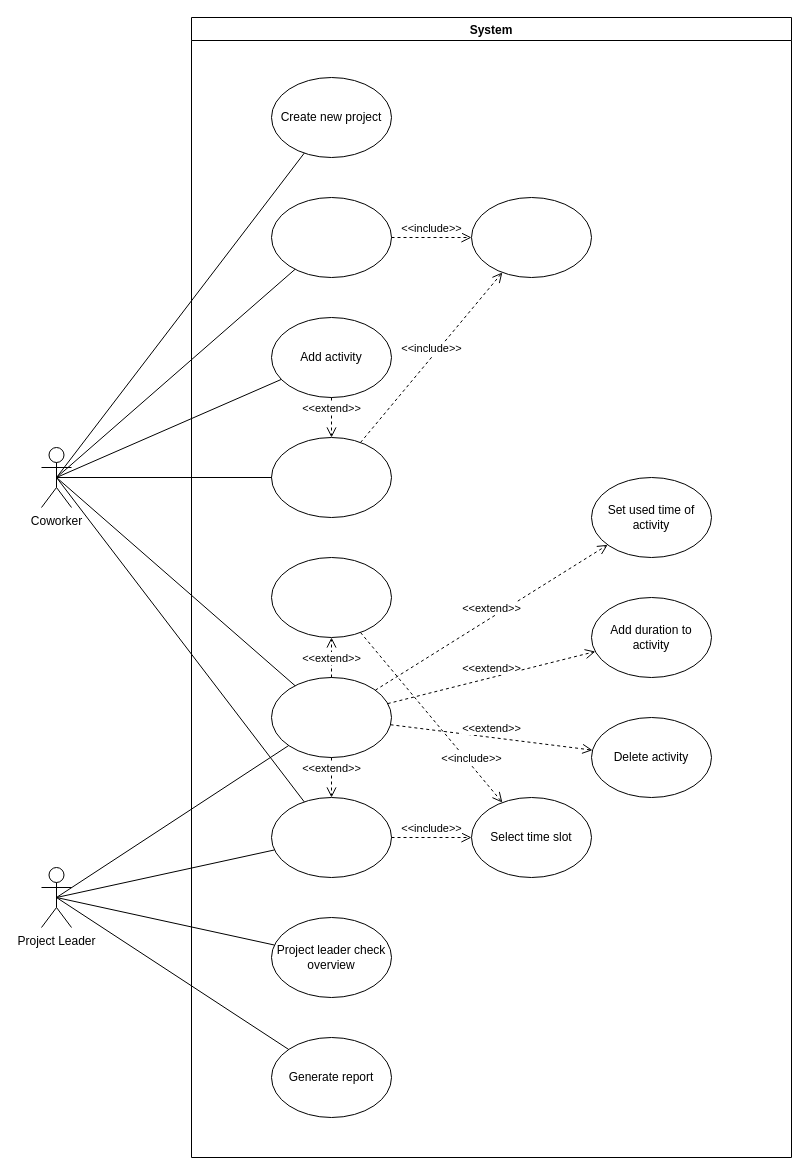
This 809x1175 diagram has some shape labels left out. Each missing label, with the centre of its shape:
"Add activity to project" goes at point 331,477.
"Add new employee to activity" goes at point 331,837.
"Add self to general activity" goes at point 331,597.
"Assign project leader to project" goes at point 331,237.
"Change activity" goes at point 331,717.
"Select project" goes at point 531,237.
